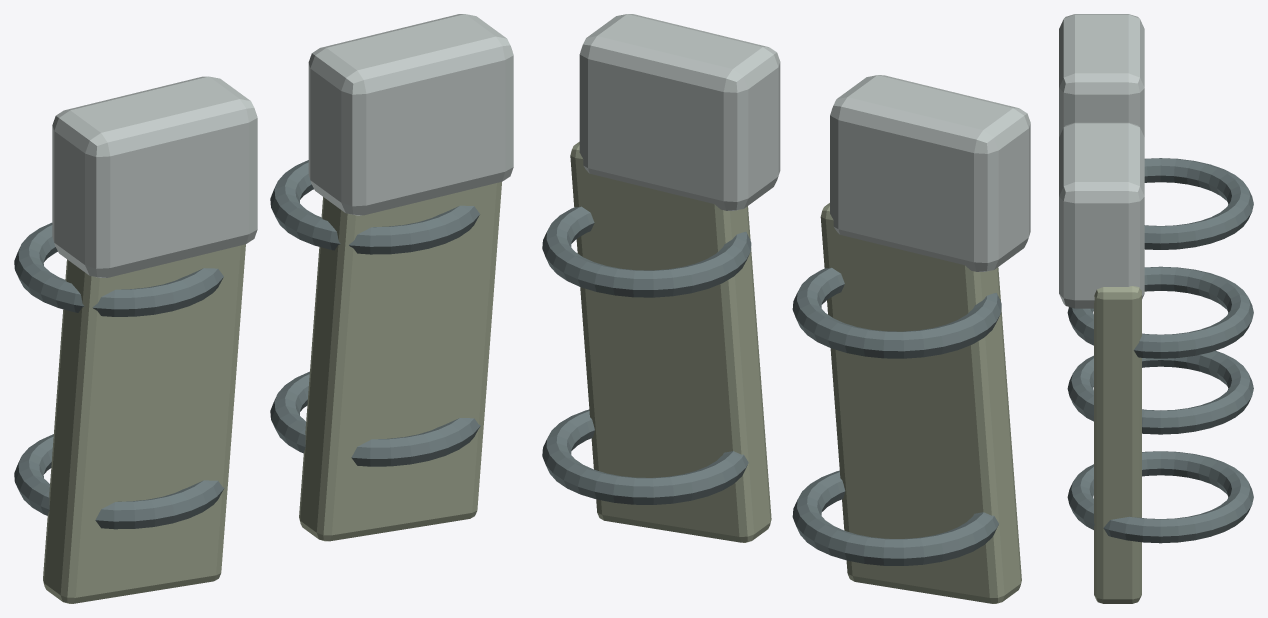
3 views of the same model, side by side, from view 1: azimuth 30°, elevation 25°; view 2: azimuth 150°, elevation 25°; view 3: azimuth 270°, elevation 25° (orthographic). The views are drawn at different scales.
Visible parts, largest first — view 1: curved shin plate.001, curved shin plate, knee cap, knee cap.001, leg strap.003, leg strap.001, leg strap, leg strap.002; view 2: curved shin plate.001, curved shin plate, knee cap.001, knee cap, leg strap.003, leg strap.001, leg strap.002, leg strap; view 3: knee cap.001, curved shin plate.001, knee cap, leg strap.002, leg strap.003, leg strap, leg strap.001.
Part boxes in pixels (bbox=[...]): curved shin plate.001: bbox=[299, 182, 501, 541]; curved shin plate: bbox=[43, 244, 245, 603]; knee cap: bbox=[52, 76, 257, 277]; knee cap.001: bbox=[308, 14, 513, 215]; leg strap.003: bbox=[270, 160, 479, 254]; leg strap.001: bbox=[14, 222, 223, 316]; leg strap: bbox=[14, 434, 224, 529]; leg strap.002: bbox=[270, 371, 480, 466]; curved shin plate.001: bbox=[570, 141, 771, 542]; curved shin plate: bbox=[820, 203, 1021, 603]; knee cap.001: bbox=[579, 14, 780, 210]; knee cap: bbox=[830, 75, 1030, 271]; leg strap.003: bbox=[542, 206, 751, 297]; leg strap.001: bbox=[792, 267, 1001, 358]; leg strap.002: bbox=[542, 409, 748, 504]; leg strap: bbox=[792, 470, 998, 565]; knee cap.001: bbox=[1059, 122, 1144, 308]; curved shin plate.001: bbox=[1094, 286, 1141, 603]; knee cap: bbox=[1059, 14, 1144, 136]; leg strap.002: bbox=[1067, 451, 1253, 543]; leg strap.003: bbox=[1067, 266, 1253, 358]; leg strap: bbox=[1067, 350, 1253, 434]; leg strap.001: bbox=[1144, 158, 1253, 249].
Size of the model in its own units: 0.4153 by 0.4397 by 0.182.
